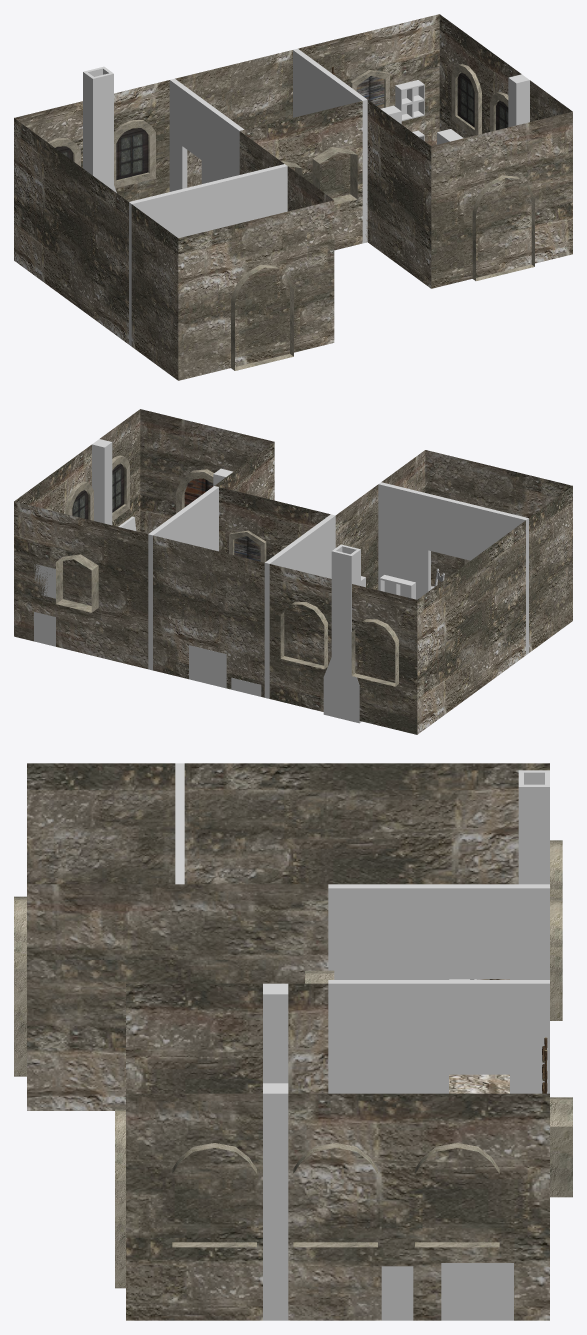
Rendered from shop_1.1stfloor.interior.fbx.
3 views of the same model, one above another, from view 1: azimuth 30°, elevation 25°; view 2: azimuth 150°, elevation 25°; view 3: azimuth 270°, elevation 25° (orthographic). The views are drawn at different scales.
Visible parts, largest first — view 1: house_3.004, Cube.001, fireplace_1.004, sideboard_1.020, store_2.011; view 2: house_3.004, Cube.001, fireplace_1.004, sideboard_1.020, sideboard_1.011, store_2.012, store_2.010, store_2.011; view 3: house_3.004, Cube.001, sideboard_1.020, sideboard_1.021, fireplace_1.004, sideboard_1.019.
Part boxes in pixels (x1,y1,x2,y2): house_3.004: (14,14,572,380); Cube.001: (129,48,367,346); fireplace_1.004: (83,66,116,192); sideboard_1.020: (380,74,529,127); store_2.011: (395,80,424,120); house_3.004: (14,409,572,734); Cube.001: (148,482,528,698); fireplace_1.004: (323,544,361,723); sideboard_1.020: (92,439,232,525); sideboard_1.011: (189,645,226,688); store_2.012: (34,612,55,646); store_2.010: (380,575,415,599); store_2.011: (34,564,55,598); house_3.004: (14,763,572,1320); Cube.001: (175,763,549,1093); sideboard_1.020: (263,983,288,1320); sideboard_1.021: (441,1263,513,1320); fireplace_1.004: (518,770,549,884); sideboard_1.019: (381,1266,413,1320).
Size of the model in its own units: 12.67 by 4.89 by 8.92.
